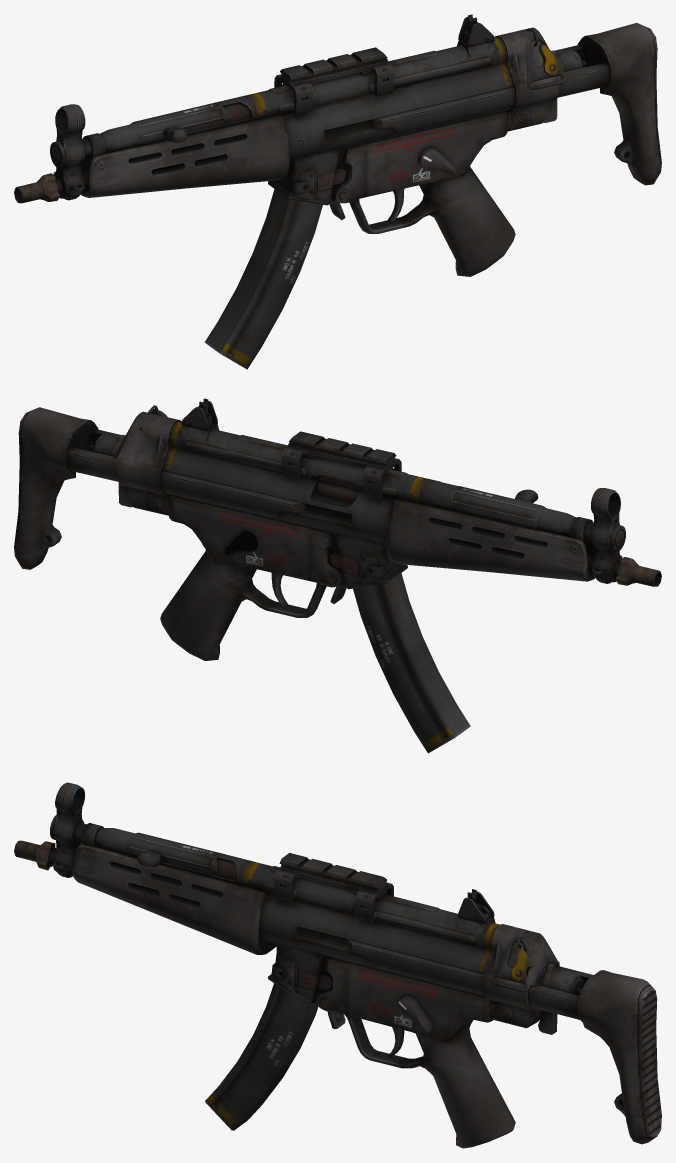
3 views of the same model, one above another, from view 1: azimuth 30°, elevation 25°; view 2: azimuth 150°, elevation 25°; view 3: azimuth 330°, elevation 25° (orthographic).
Visible parts, largest first — view 1: mp5; view 2: mp5; view 3: mp5.
Boxes of the visible parts, bbox=[...] form: mp5: bbox=[14, 14, 661, 369]; mp5: bbox=[14, 398, 661, 753]; mp5: bbox=[14, 782, 661, 1148].
Size of the model in its own units: 0.5589 by 0.2507 by 0.0564.
